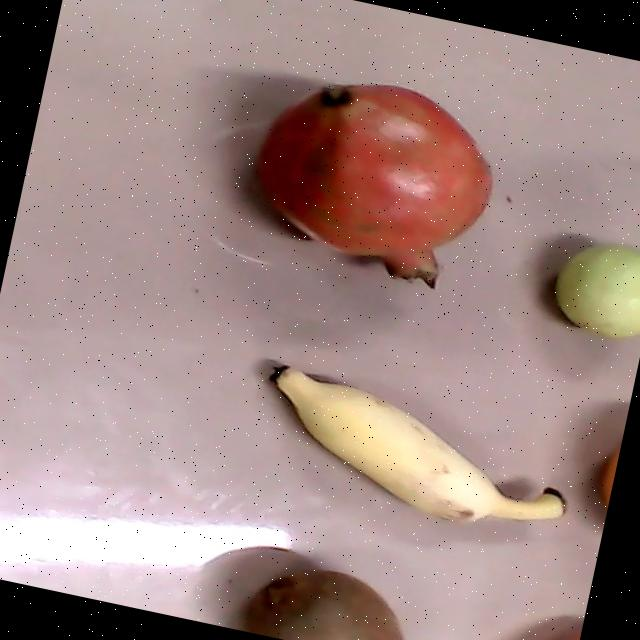kiwi: (243, 570, 401, 640)
lemon: (553, 245, 640, 338)
pomegranate: (254, 80, 491, 290)
